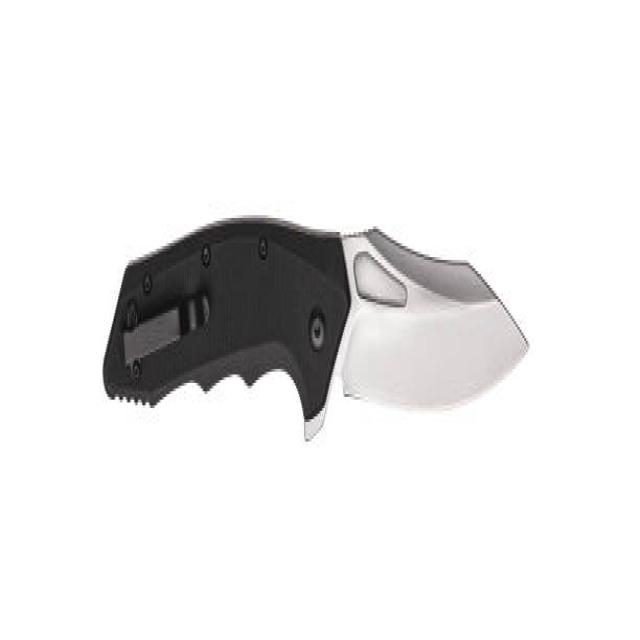knife: (99, 196, 531, 454)
